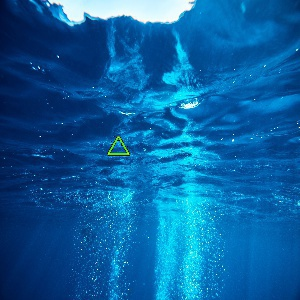triangle: (106, 134, 132, 158)
